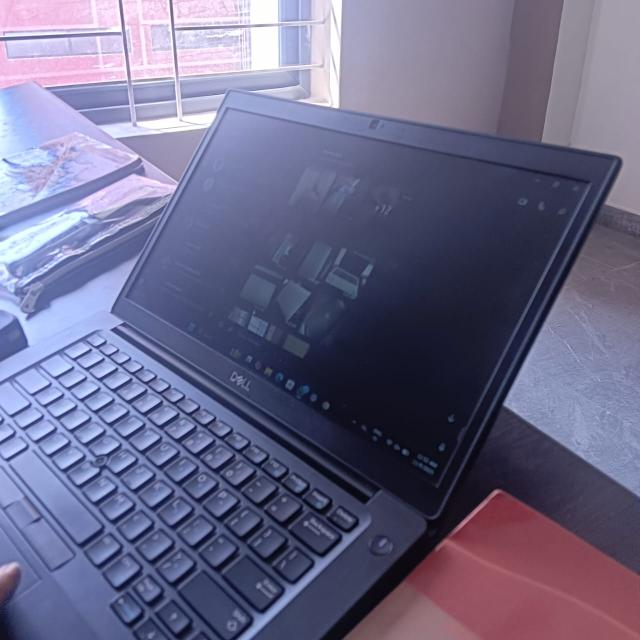laptop: (14, 78, 602, 640)
